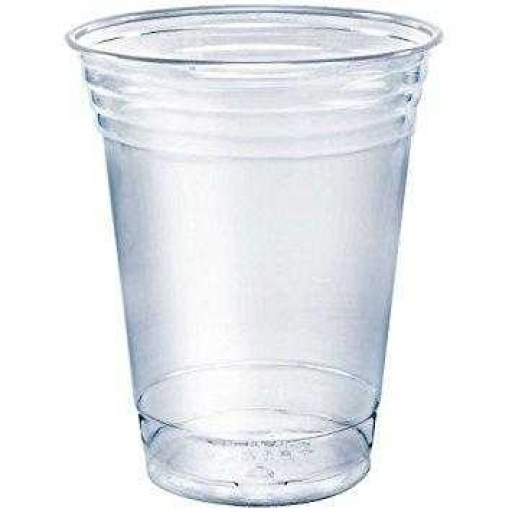cup: (62, 4, 444, 506)
